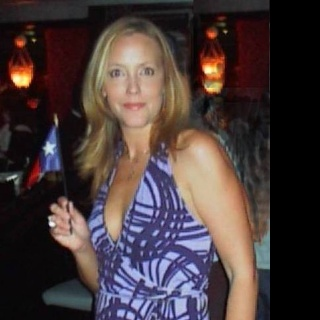without_mask: (104, 33, 163, 127)
